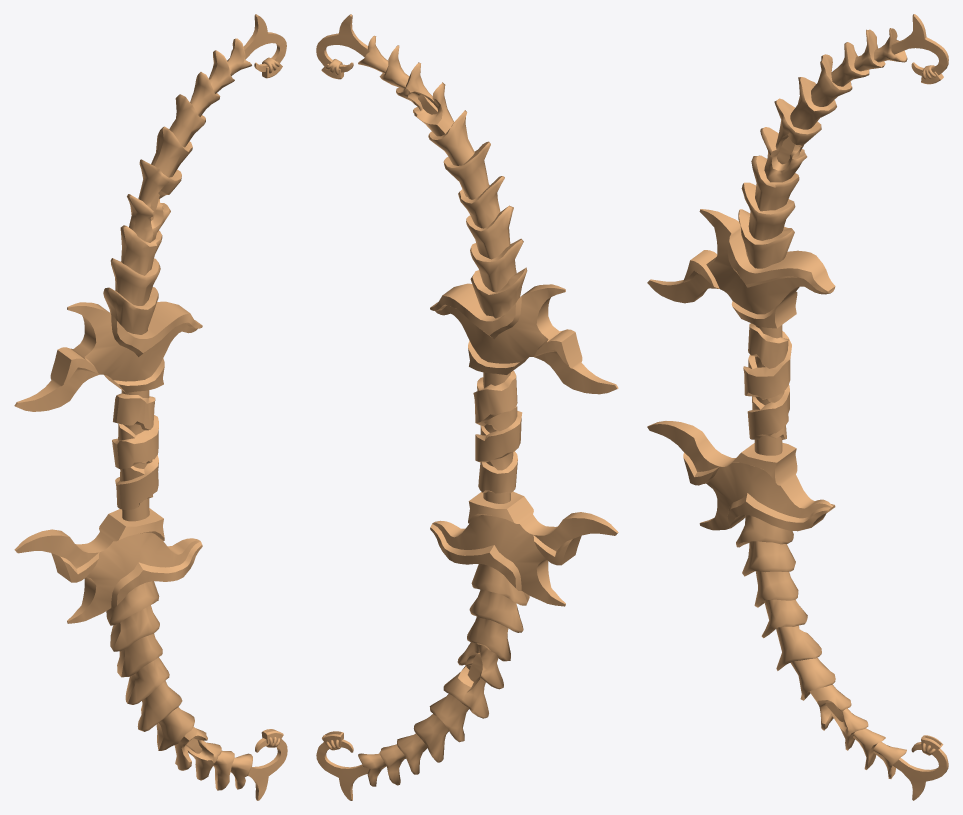
File: SM_Undead_Bow_4.fbx
3 views of the same model, side by side, from view 1: azimuth 30°, elevation 25°; view 2: azimuth 150°, elevation 25°; view 3: azimuth 330°, elevation 25° (orthographic).
Parts seen in each view (by area): view 1: SM_Undead_Bow_4; view 2: SM_Undead_Bow_4; view 3: SM_Undead_Bow_4.
Part boxes in pixels (x1,y1,x2,y2): SM_Undead_Bow_4: (14, 14, 287, 800); SM_Undead_Bow_4: (316, 14, 618, 800); SM_Undead_Bow_4: (647, 14, 948, 800).
Size of the model in its own units: 0.5113 by 1.34 by 0.1024.
